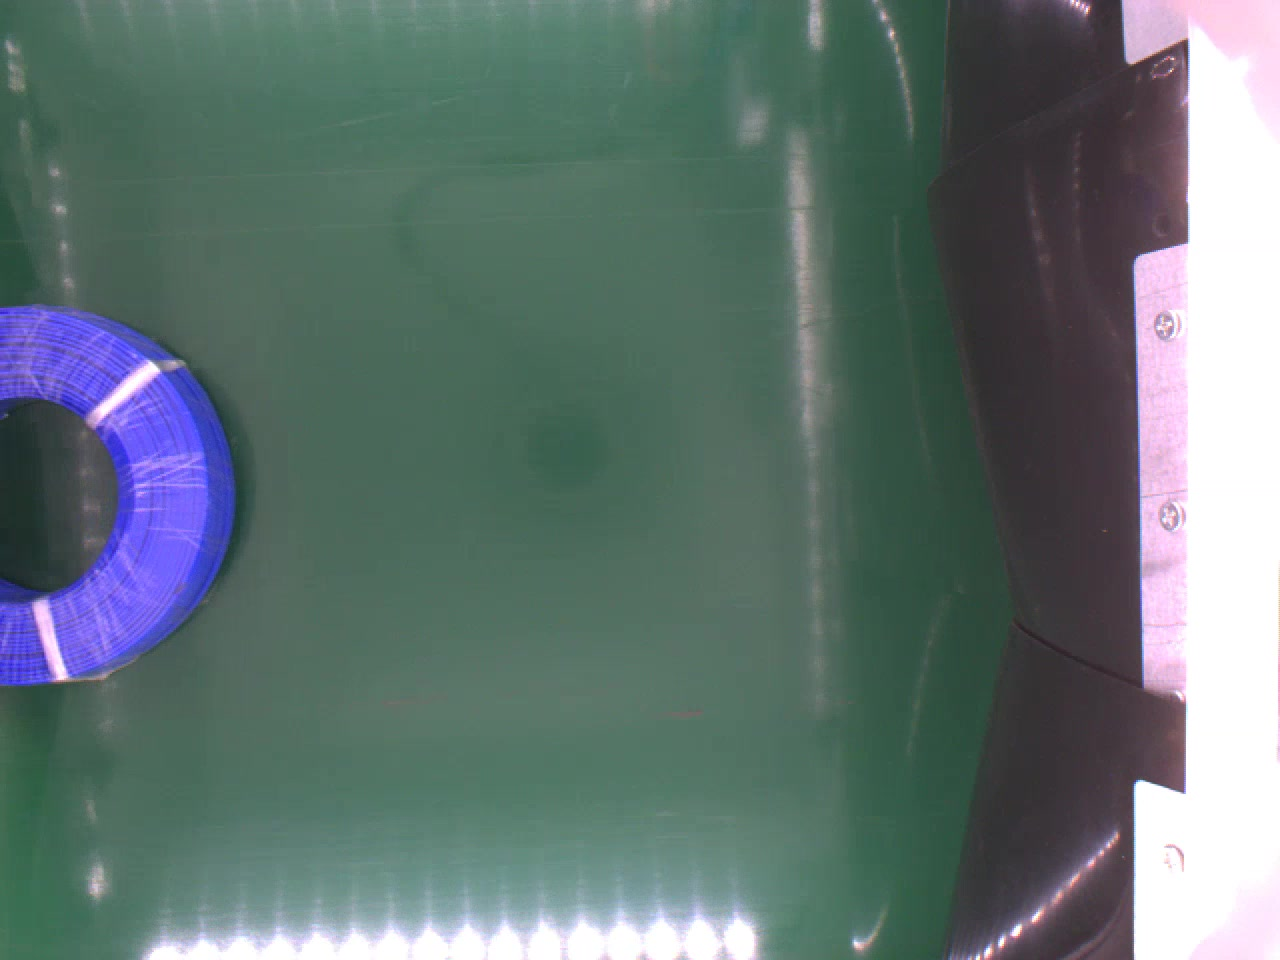blue: (0, 302, 242, 682)
